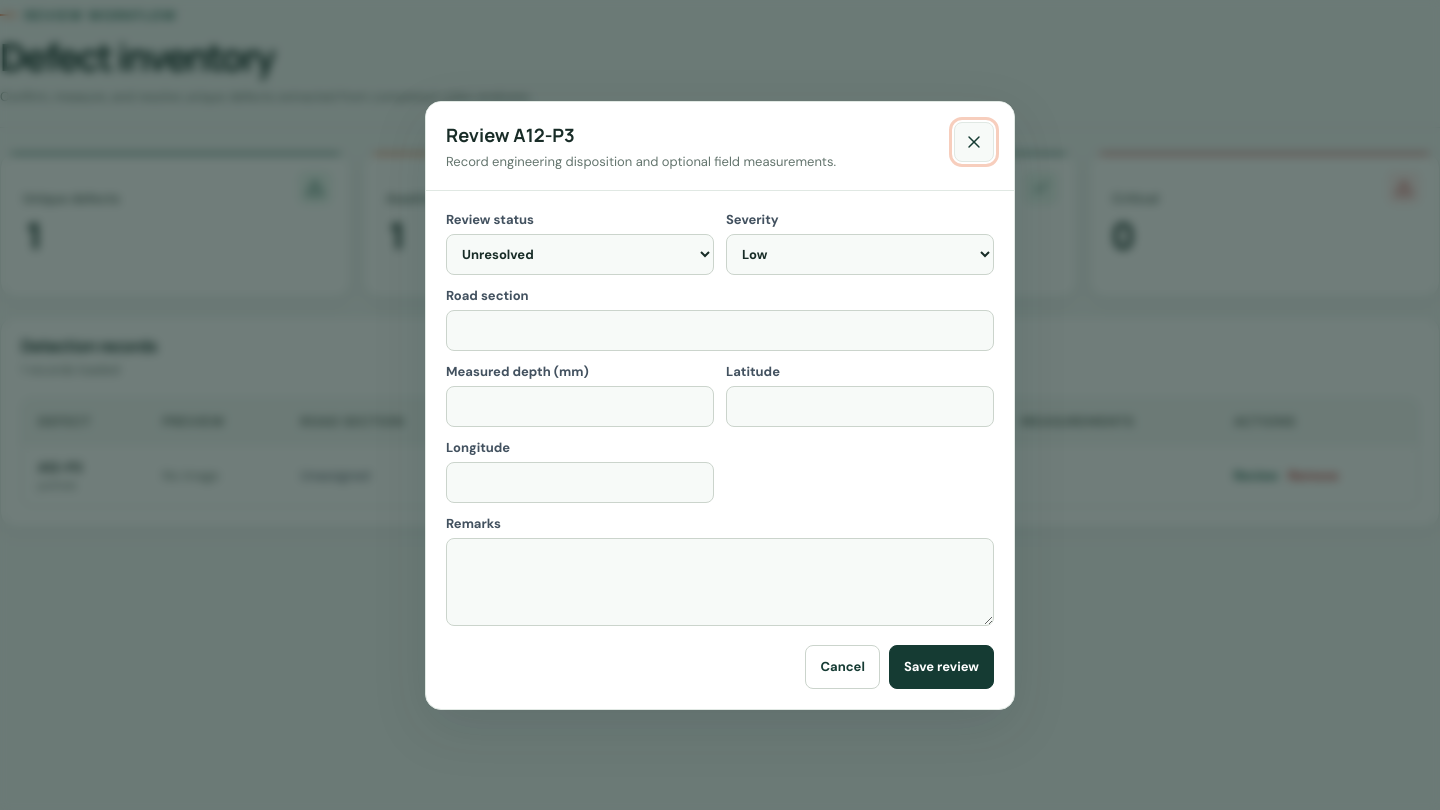
it: defect detail links › opens the selected defect review from the map and keeps the dialog closed after dismissal
The image size is (1440, 810).
Check: the dialog "Review A12-P3" is shown, box [425,100,1015,710]
Step 1. Click the button named "Close" → {"x": 974, "y": 142}, box [954,122,994,162]
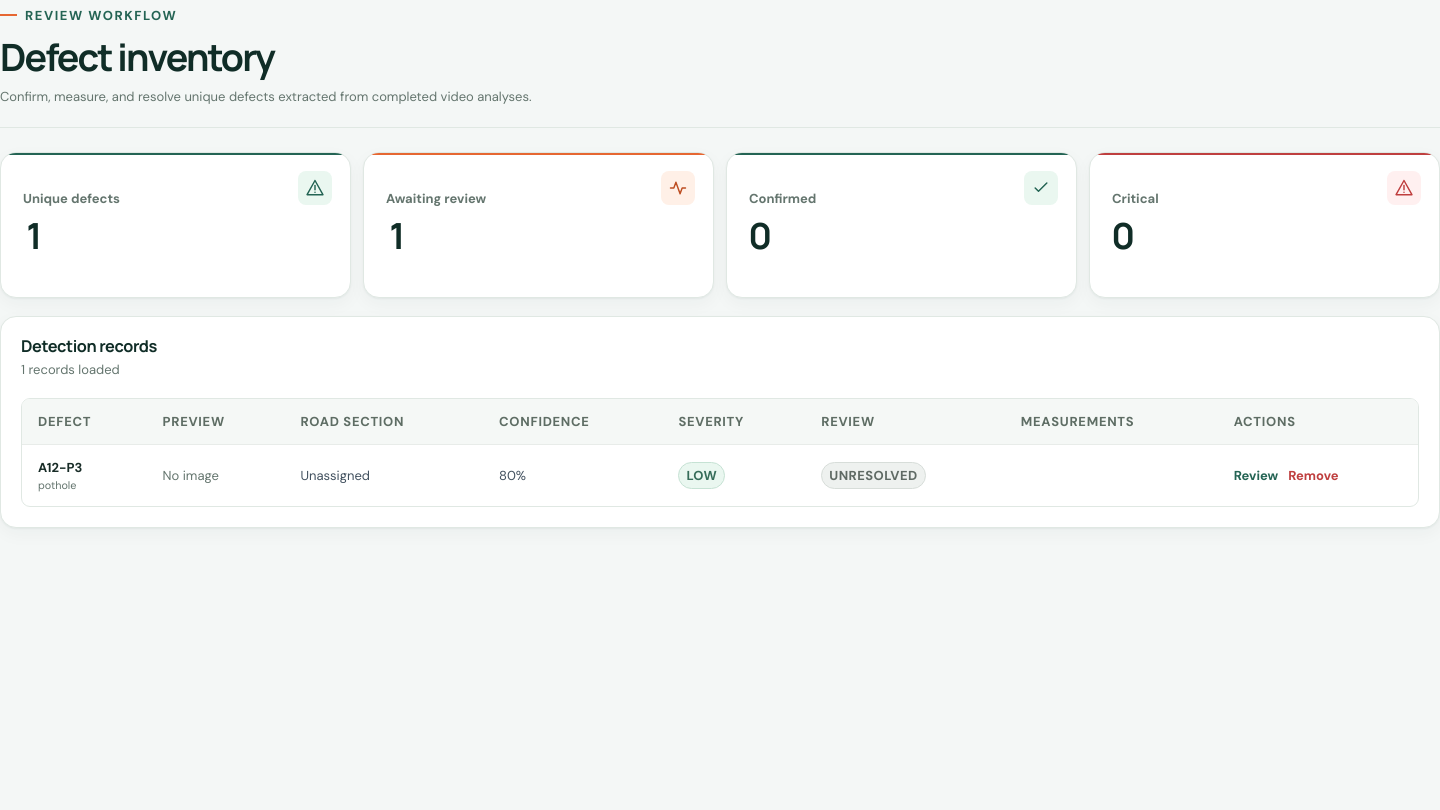
Check: the dialog is gone
